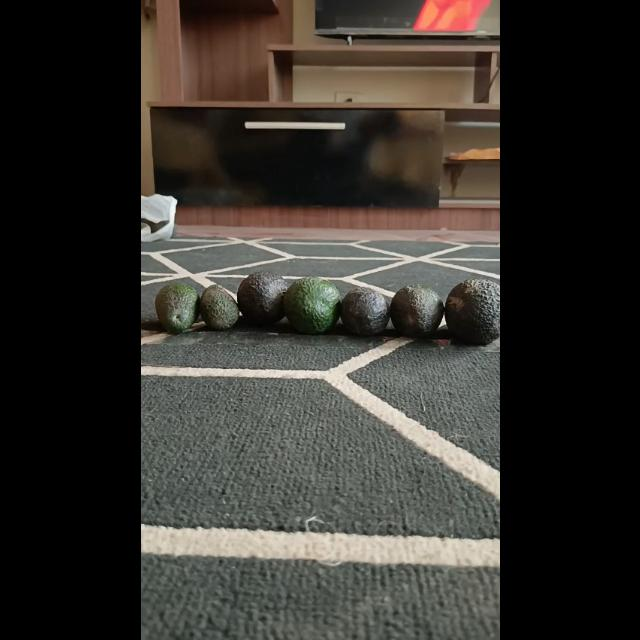Primera: (444, 278, 500, 346), (284, 277, 342, 335), (235, 269, 288, 325)
Segunda: (388, 282, 444, 338), (339, 286, 393, 336), (153, 282, 199, 334)
Tercera: (198, 283, 240, 331)
